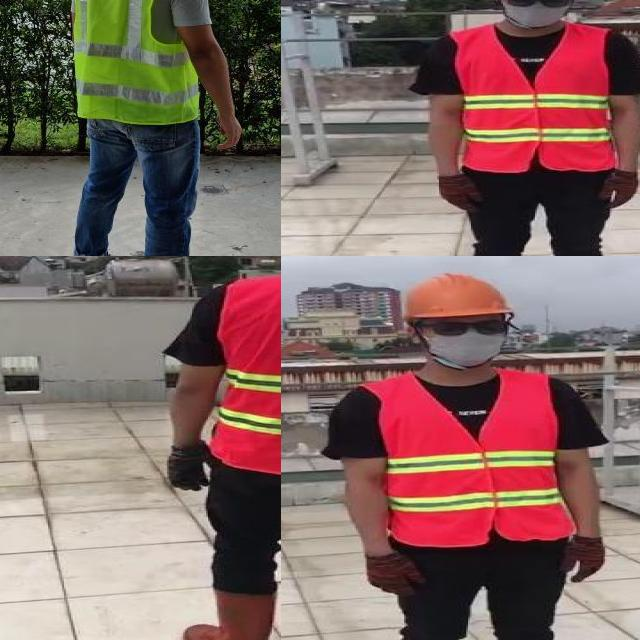boots: (183, 588, 277, 640)
face_mask: (422, 314, 511, 368), (503, 0, 570, 26)
glasses: (422, 312, 520, 344), (500, 0, 576, 10)
hand_glove: (368, 552, 424, 597), (167, 447, 221, 490), (560, 536, 605, 581), (438, 175, 483, 213), (596, 174, 638, 211)
head_helmet: (396, 270, 513, 323)
person: (338, 267, 612, 640), (29, 0, 276, 256), (416, 0, 640, 256), (154, 256, 281, 640)
vest: (374, 372, 573, 547), (451, 24, 615, 171), (71, 0, 206, 128), (216, 275, 281, 475)
